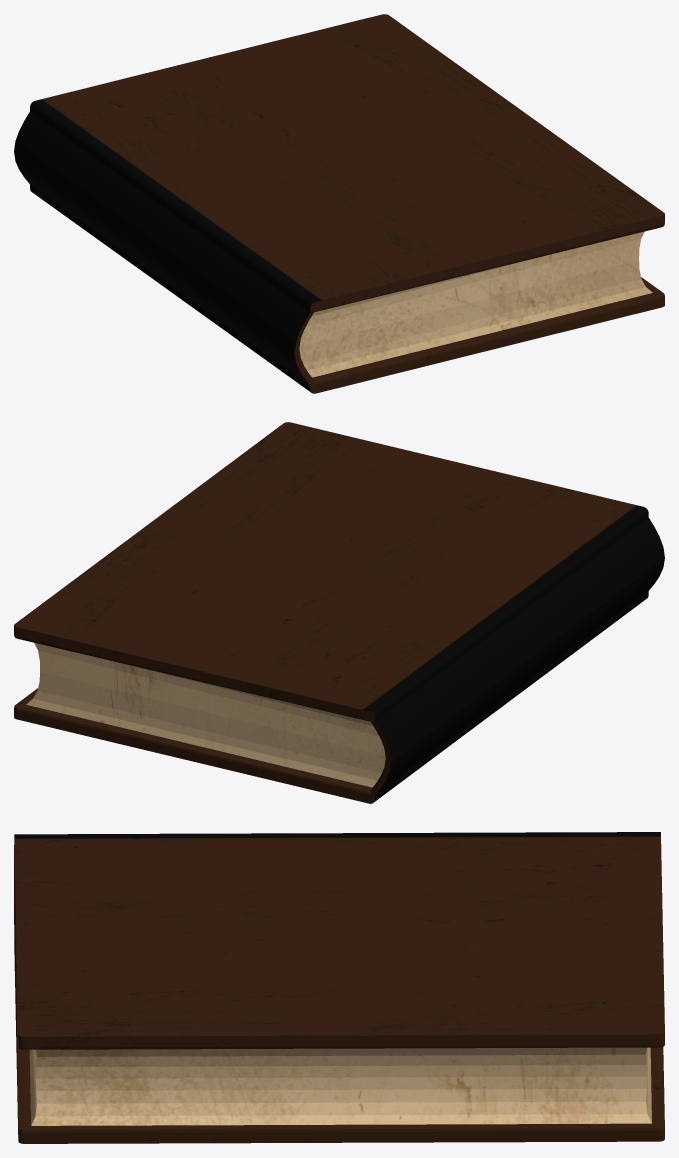
Rendered from Book.fbx.
The picture shows the model from 3 angles, top to bottom: view 1: azimuth 30°, elevation 25°; view 2: azimuth 150°, elevation 25°; view 3: azimuth 270°, elevation 25°; orthographic projection. The views are drawn at different scales.
Parts seen in each view (by area): view 1: Book; view 2: Book; view 3: Book.
Part boxes in pixels (x1,y1,x2,y2): Book: (14,14,664,393); Book: (14,422,664,803); Book: (14,832,664,1143).
Size of the model in its own units: 8.93 by 2.07 by 11.38.
Materials: 1 (1 with a texture image).
